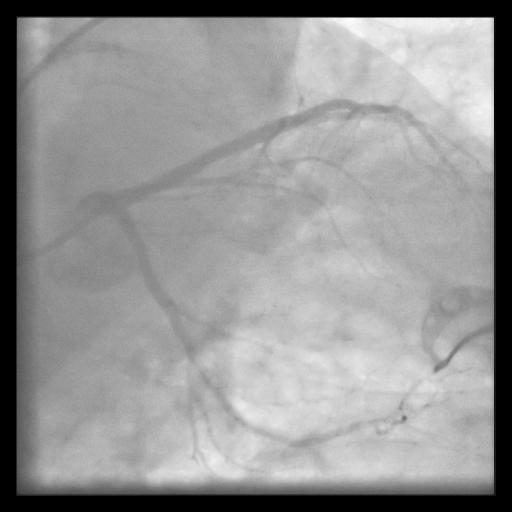Stenosis: (190, 355, 228, 407)
